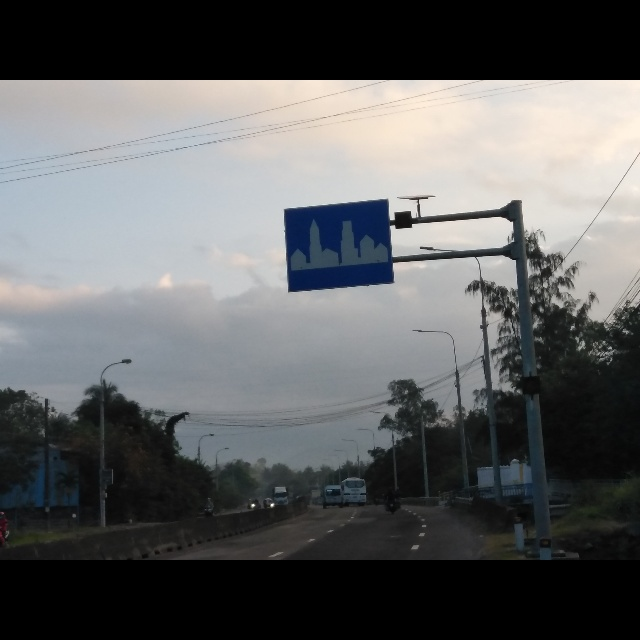Khu đông dân cư: (280, 196, 397, 295)
